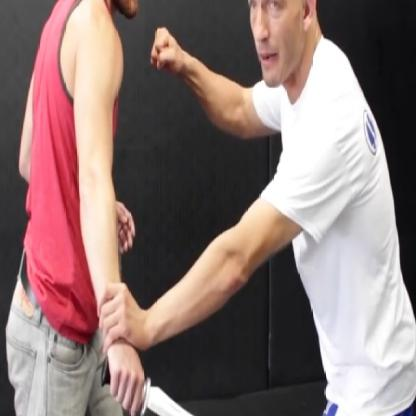knife: (92, 343, 212, 415)
